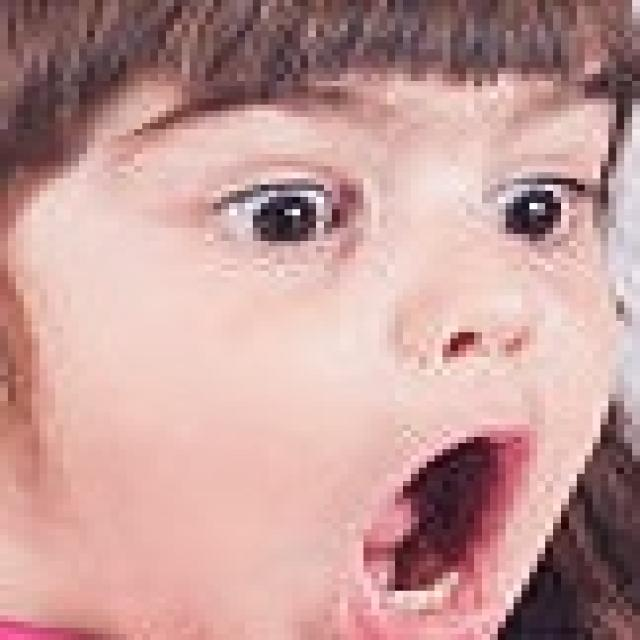Anxiety: (0, 28, 632, 634)
